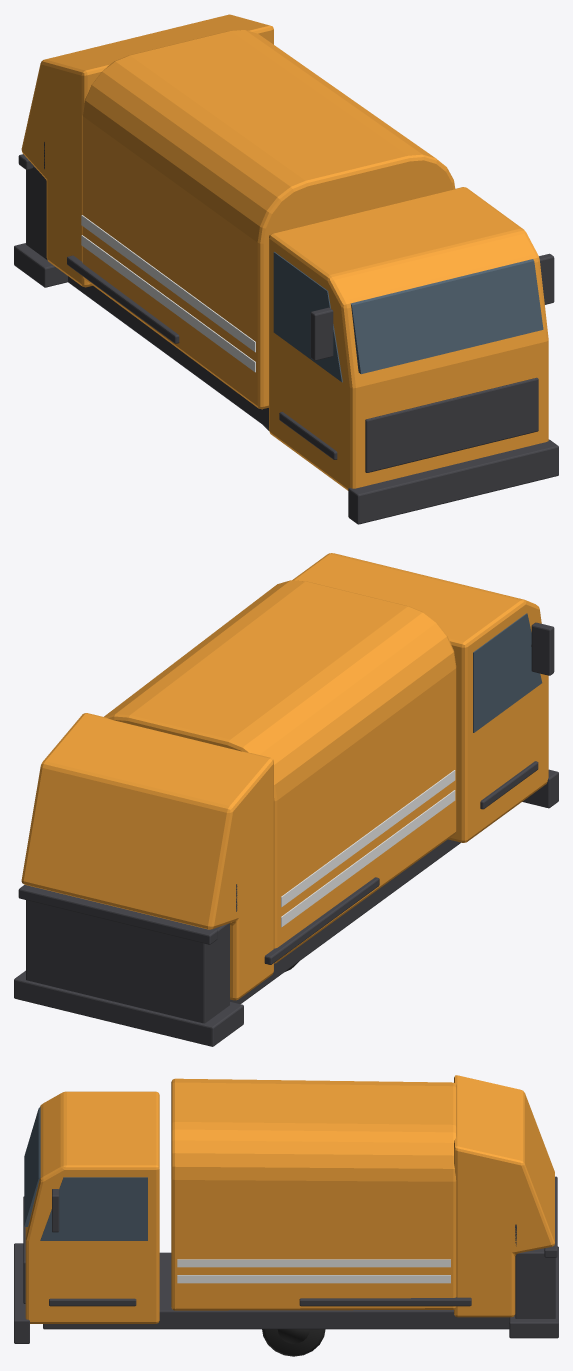
File: kebap_truck.fbx
3 renders of one model, top to bottom at view 1: azimuth 30°, elevation 25°; view 2: azimuth 150°, elevation 25°; view 3: azimuth 270°, elevation 25°, orthographic. The views are drawn at different scales.
Visible parts, largest first — view 1: TruckPaint, TruckDark, TruckGlass, TruckWhite; view 2: TruckPaint, TruckDark, TruckGlass, TruckWhite; view 3: TruckPaint, TruckDark, TruckGlass, TruckWhite, TruckWheel.
Boxes of the visible parts, box(x1,y1,x2,y2) form: TruckPaint: box(21, 14, 548, 490); TruckDark: box(14, 142, 558, 524); TruckGlass: box(273, 252, 543, 382); TruckWhite: box(81, 215, 255, 372); TruckPaint: box(21, 553, 548, 1000); TruckDark: box(14, 622, 558, 1046); TruckGlass: box(473, 613, 542, 732); TruckWhite: box(281, 770, 455, 927); TruckPaint: box(25, 1075, 554, 1323); TruckDark: box(14, 1176, 558, 1343); TruckGlass: box(24, 1107, 147, 1240); TruckWhite: box(177, 1259, 450, 1283); TruckWheel: box(262, 1329, 325, 1356).
Size of the model in its own units: 750 by 950 by 1870.
